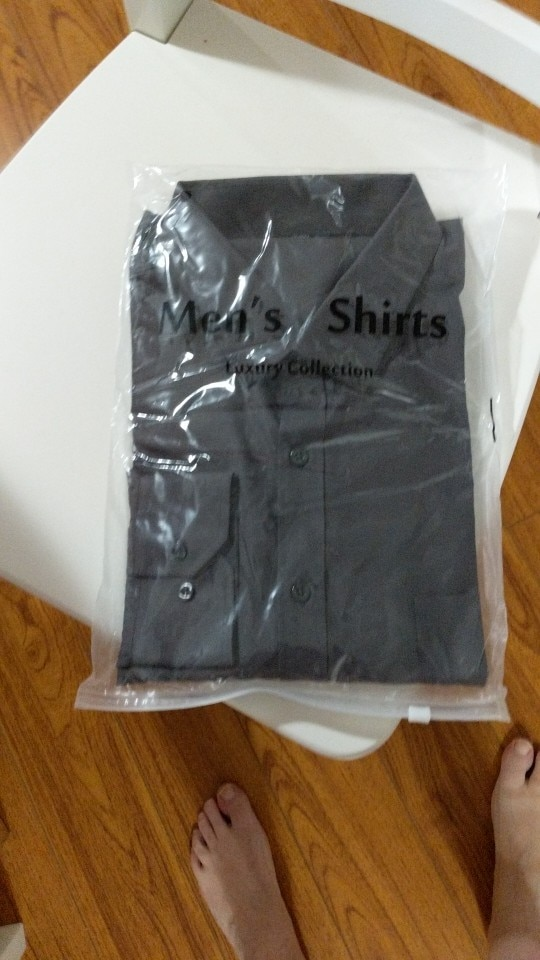shirts: (126, 166, 487, 692)
